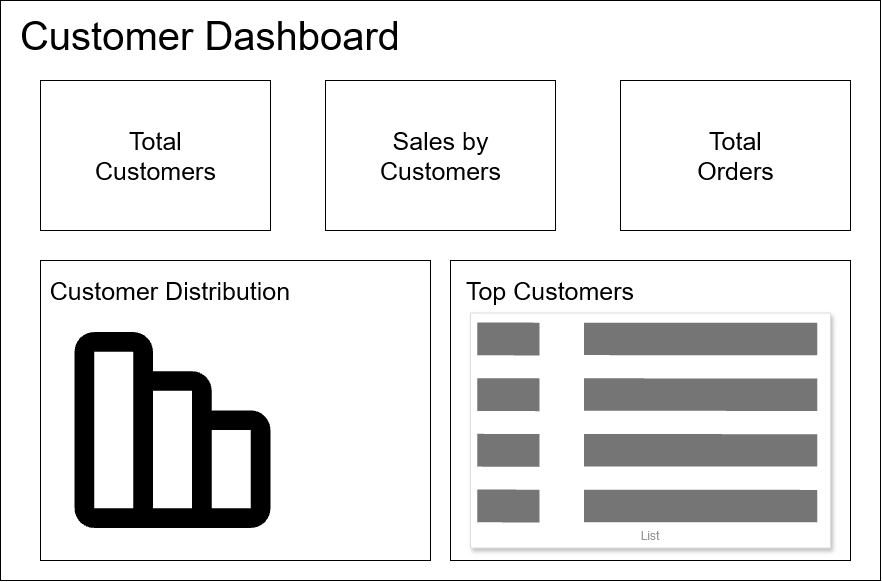

Layout of this report page (visuals, bound fields, positions):
{"tool":"tableau","page":{"name":"Customer Dashboard","canvas":[1200,800],"ordinal":0},"visuals":[{"type":"image","param":"Image/Icon - Logo.png","box":[0,0,73,59]},{"type":"text","box":[73,0,820,59]},{"type":"dashboard-object","box":[940,6,91,70]},{"type":"dashboard-object","box":[1031,6,91,70]},{"type":"blank","box":[952,10,237,86]},{"type":"worksheet","title":"Legend KPI","mark":"Automatic","box":[0,59,1200,29]},{"type":"worksheet","title":"KPI Customers","mark":"Automatic","rows":["Min/Max Quantity (copy)_3221481164588691468"],"cols":["Order Date"],"box":[0,88,400,284]},{"type":"worksheet","title":"KPI Sales Per Customers","mark":"Automatic","rows":["Min/Max Quantity (copy)_3221481164537155591"],"cols":["Order Date"],"box":[400,88,400,284]},{"type":"worksheet","title":"KPI Orders","mark":"Automatic","rows":["Min/Max Sales (copy)_3221481164601258003"],"cols":["Order Date"],"box":[800,88,400,284]},{"type":"text","box":[952,96,237,34]},{"type":"parameter","param":"[Parameters].[Parameter 1]","box":[952,130,237,52]},{"type":"text","box":[952,182,237,29]},{"type":"filter","title":"KPI Customers","param":"[federated.1kpxa041aiai2y1cl4pui1t4eju9].[none:Category:nk]","box":[952,211,237,52]},{"type":"filter","title":"KPI Customers","param":"[federated.1kpxa041aiai2y1cl4pui1t4eju9].[none:Sub-Category:nk]","box":[952,263,237,52]},{"type":"blank","box":[952,315,237,60]},{"type":"text","box":[952,375,237,29]},{"type":"text","box":[17,389,566,34]},{"type":"text","box":[617,389,566,34]},{"type":"filter","title":"KPI Customers","param":"[federated.1kpxa041aiai2y1cl4pui1t4eju9].[none:Region:nk]","box":[952,404,237,52]},{"type":"worksheet","title":"Customer Distribution","mark":"Bar","rows":["CY Sales (copy)_3221481164532666369"],"cols":["Calculation_998110323739992064"],"box":[17,423,566,360]},{"type":"text","box":[617,423,53,40]},{"type":"text","box":[670,423,130,40]},{"type":"text","box":[800,423,111,40]},{"type":"text","box":[911,423,108,40]},{"type":"text","box":[1019,423,101,40]},{"type":"text","box":[1120,423,63,40]},{"type":"filter","title":"KPI Customers","param":"[federated.1kpxa041aiai2y1cl4pui1t4eju9].[none:State:nk]","box":[952,456,237,52]},{"type":"worksheet","title":"Top Customers","mark":"Automatic","rows":["Calculation_782500491678904334","Customer Name","Order Date"],"box":[617,463,566,320]},{"type":"filter","title":"KPI Customers","param":"[federated.1kpxa041aiai2y1cl4pui1t4eju9].[none:City:nk]","box":[952,508,237,52]}]}

Visuals, with their boxes in screenshot pixels (x1, y1, x2, y2), scaled from the page's 1200x800 canvas onto the 882x582 screenshot:
image: [left=0, top=0, right=54, bottom=43]
text: [left=54, top=0, right=656, bottom=43]
dashboard-object: [left=691, top=4, right=758, bottom=55]
dashboard-object: [left=758, top=4, right=825, bottom=55]
blank: [left=700, top=7, right=874, bottom=70]
"Legend KPI" worksheet: [left=0, top=43, right=881, bottom=64]
"KPI Customers" worksheet: [left=0, top=64, right=294, bottom=271]
"KPI Sales Per Customers" worksheet: [left=294, top=64, right=588, bottom=271]
"KPI Orders" worksheet: [left=588, top=64, right=881, bottom=271]
text: [left=700, top=70, right=874, bottom=95]
parameter: [left=700, top=95, right=874, bottom=132]
text: [left=700, top=132, right=874, bottom=154]
"KPI Customers" filter: [left=700, top=154, right=874, bottom=191]
"KPI Customers" filter: [left=700, top=191, right=874, bottom=229]
blank: [left=700, top=229, right=874, bottom=273]
text: [left=700, top=273, right=874, bottom=294]
text: [left=12, top=283, right=429, bottom=308]
text: [left=453, top=283, right=870, bottom=308]
"KPI Customers" filter: [left=700, top=294, right=874, bottom=332]
"Customer Distribution" worksheet (Bar marks): [left=12, top=308, right=429, bottom=570]
text: [left=453, top=308, right=492, bottom=337]
text: [left=492, top=308, right=588, bottom=337]
text: [left=588, top=308, right=670, bottom=337]
text: [left=670, top=308, right=749, bottom=337]
text: [left=749, top=308, right=823, bottom=337]
text: [left=823, top=308, right=870, bottom=337]
"KPI Customers" filter: [left=700, top=332, right=874, bottom=370]
"Top Customers" worksheet: [left=453, top=337, right=870, bottom=570]
"KPI Customers" filter: [left=700, top=370, right=874, bottom=407]
